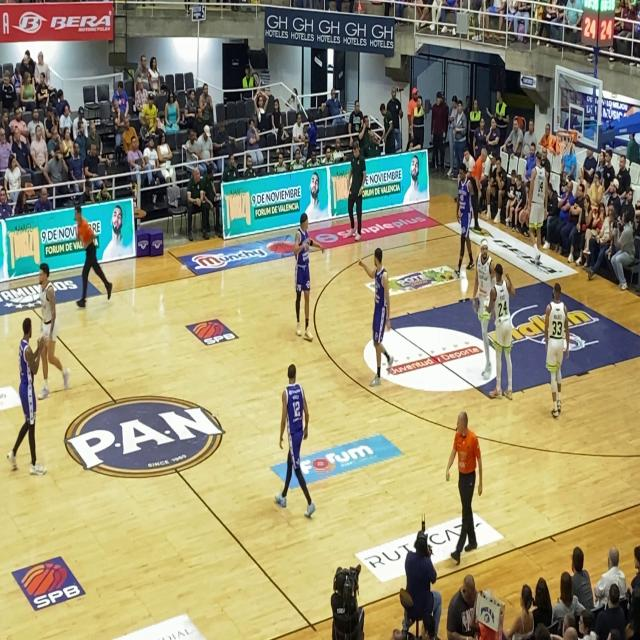ubasket: (557, 126, 575, 162)
